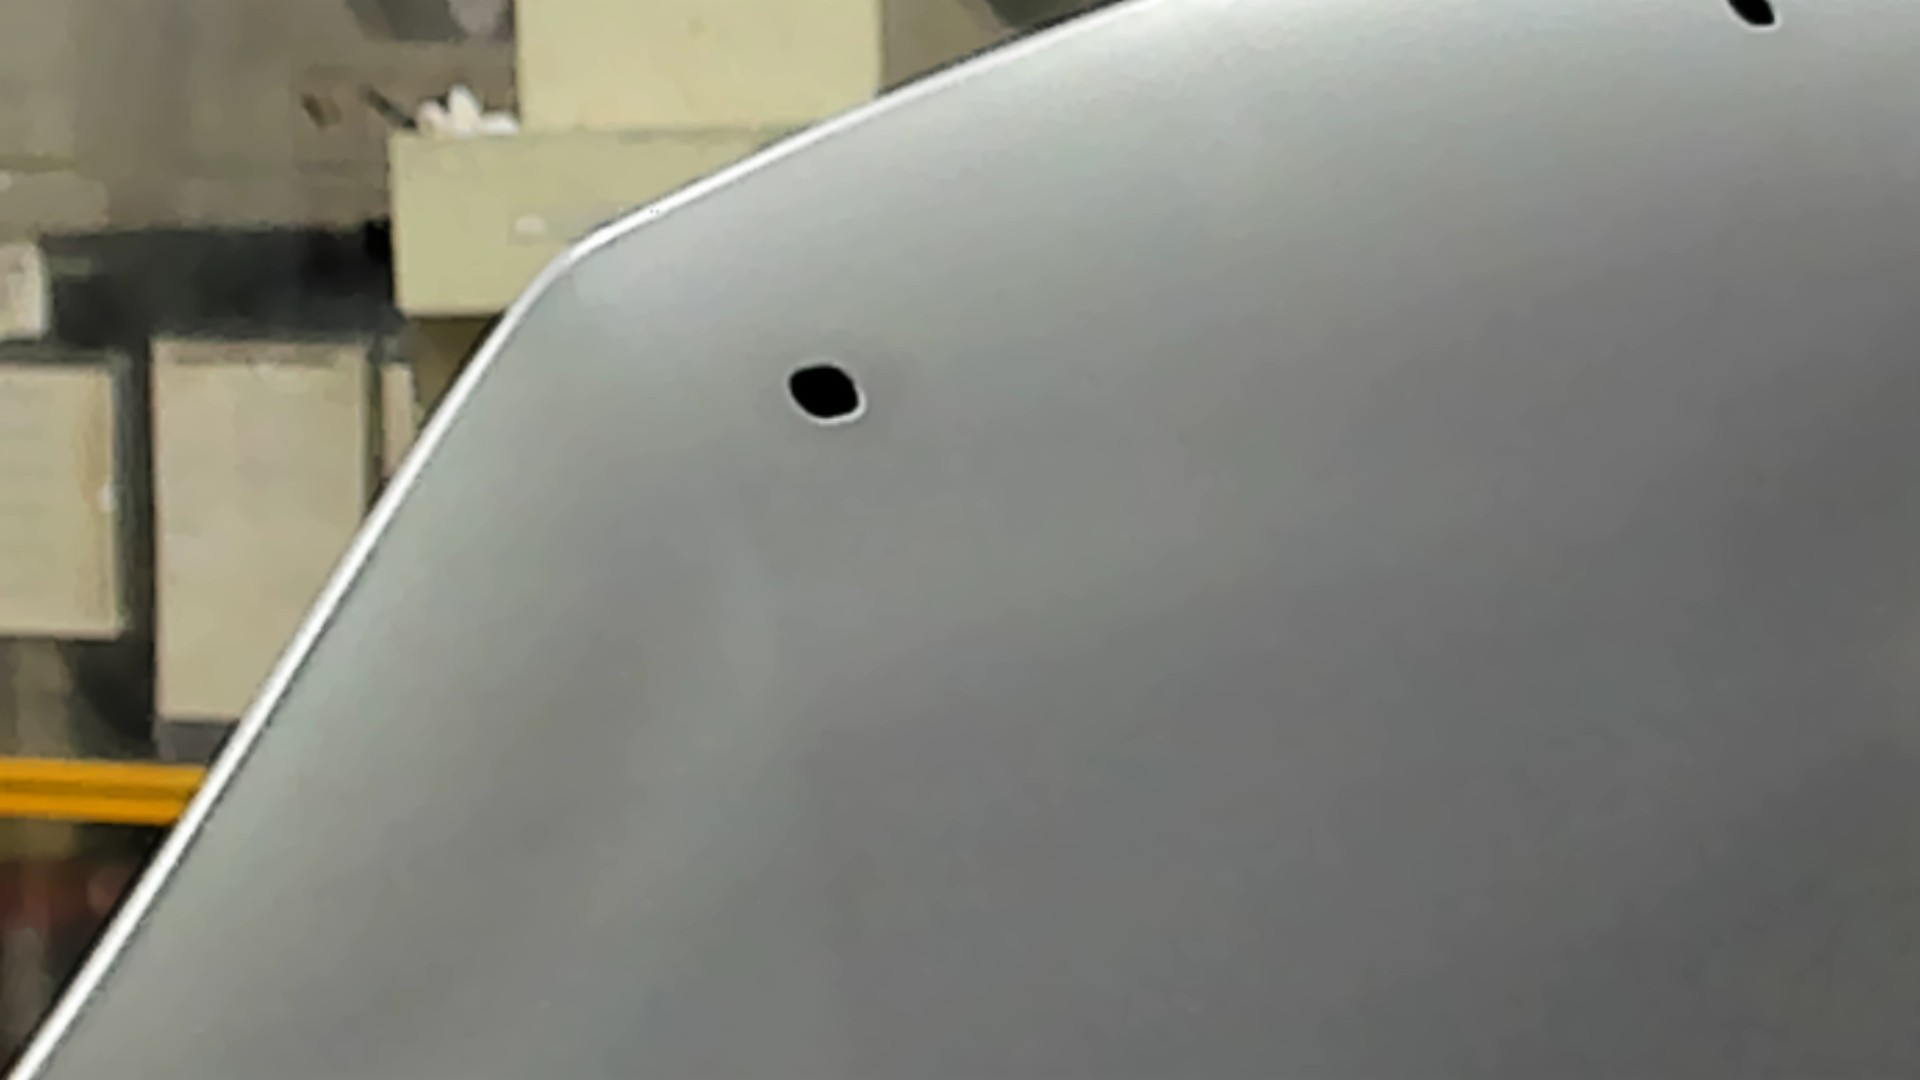amorfo: (782, 356, 869, 433), (1716, 1, 1792, 38)
capo: (964, 107, 1920, 1080)
